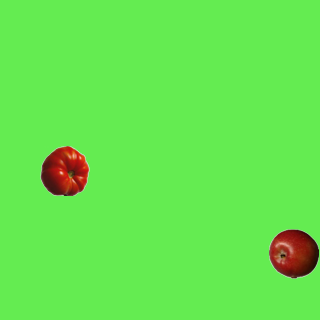Apple Braeburn: (268, 228, 318, 278)
Tomato 3: (39, 145, 89, 195)
